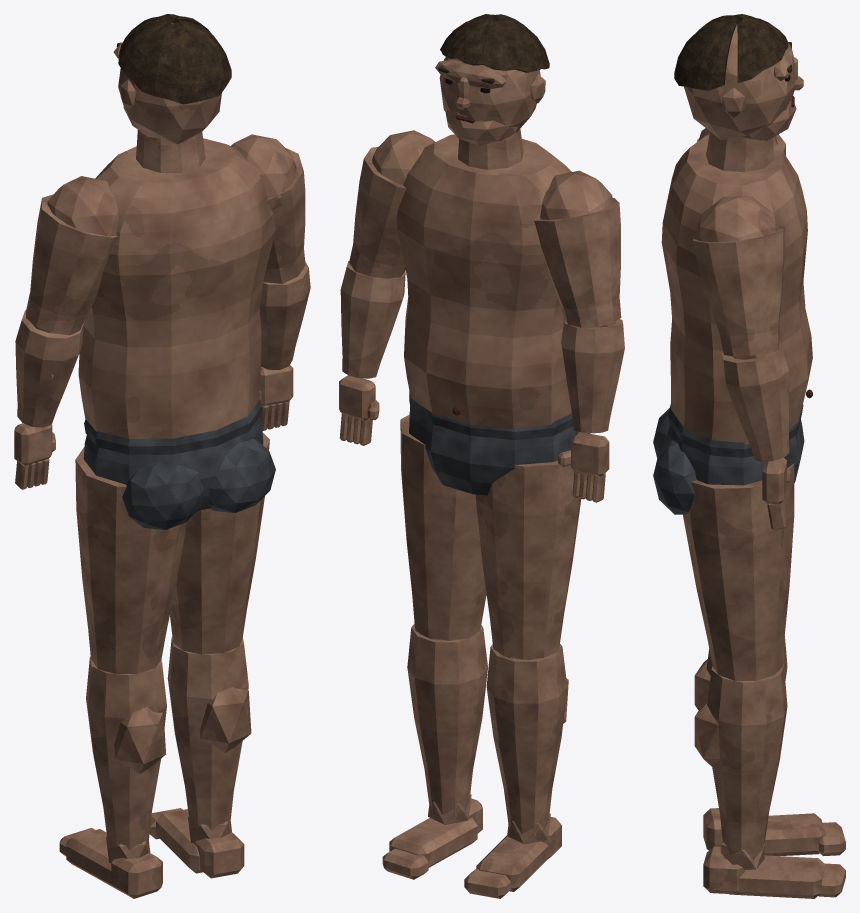
The model's file is body.glb.
3 renders of one model, left to right at view 1: azimuth 30°, elevation 25°; view 2: azimuth 150°, elevation 25°; view 3: azimuth 270°, elevation 25°, orthographic. The views are drawn at different scales.
Parts seen in each view (by area): view 1: torso, thigh_-1, thigh_1, calf_1, calf_-1, hair, upperarm_-1, forearm_-1, glute_-1, trunks, forearm_1, glute_1 (+14 smaller); view 2: torso, thigh_-1, thigh_1, calf_-1, calf_1, upperarm_-1, trunks, forearm_-1, forearm_1, upperarm_1, hair, skull (+14 smaller); view 3: torso, thigh_1, calf_1, upperarm_1, hair, forearm_1, skull, foot_1, delt_1, trunks, foot_-1, glute_1 (+15 smaller).
Part boxes in pixels (x1,y1,x2,y2): torso: (78, 138, 275, 438); thigh_-1: (75, 447, 186, 673); thigh_1: (170, 433, 269, 654); calf_1: (167, 637, 248, 830); calf_-1: (86, 656, 166, 850); hair: (118, 14, 231, 104); upperarm_-1: (26, 194, 117, 335); forearm_-1: (15, 310, 83, 427); glute_-1: (122, 461, 203, 529); trunks: (83, 417, 263, 510); forearm_1: (259, 262, 310, 369); glute_1: (208, 438, 275, 512); torso: (396, 134, 571, 440); thigh_-1: (475, 460, 581, 659); thigh_1: (400, 414, 486, 640); calf_-1: (486, 643, 567, 836); calf_1: (407, 623, 487, 817); upperarm_-1: (534, 198, 621, 327); trunks: (409, 406, 577, 495); forearm_-1: (561, 319, 624, 433); forearm_1: (340, 261, 405, 378); upperarm_1: (349, 146, 406, 278); hair: (440, 14, 549, 72); skull: (439, 57, 540, 132); torso: (661, 135, 812, 444); thigh_1: (683, 463, 794, 681); calf_1: (707, 664, 787, 862); upperarm_1: (693, 226, 784, 356); hair: (674, 14, 788, 90); forearm_1: (721, 341, 789, 461); skull: (684, 24, 794, 139); foot_1: (729, 855, 825, 898); delt_1: (694, 196, 778, 251); trunks: (666, 419, 804, 485); foot_-1: (764, 813, 825, 855); glute_1: (653, 440, 696, 514).
Size of the model in its own units: 0.6562 by 1.88 by 0.3869.
6 materials, 6 textured.
